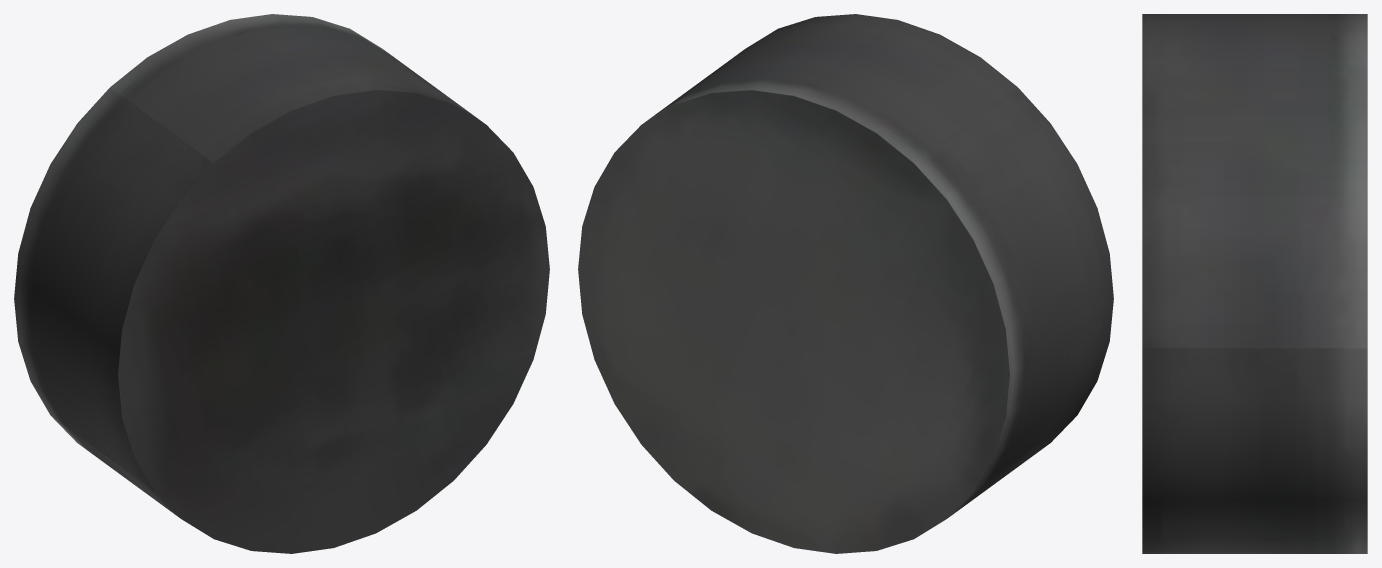
Rendered from fan_button__button_cap.glb.
3 views of the same model, side by side, from view 1: azimuth 30°, elevation 25°; view 2: azimuth 150°, elevation 25°; view 3: azimuth 270°, elevation 25° (orthographic). The views are drawn at different scales.
Visible parts, largest first — view 1: geometry_0; view 2: geometry_0; view 3: geometry_0.
Boxes of the visible parts, x1,y1,x2,y2 form: geometry_0: (14,14,549,553); geometry_0: (578,14,1113,553); geometry_0: (1142,14,1367,553).
Bounding box in the file's own units: 0.024 × 0.024 × 0.01.
Materials: 1 (1 with a texture image).
